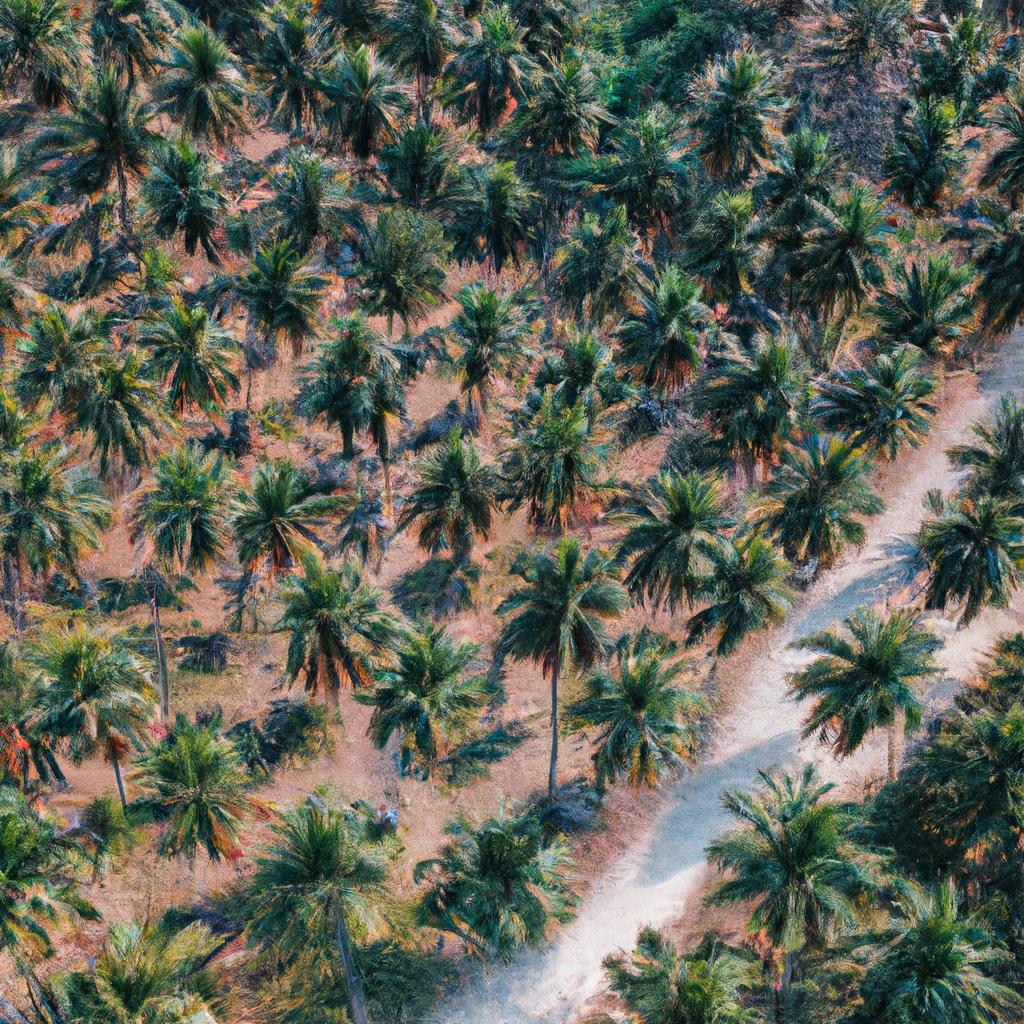coconut_tree: (678, 759, 889, 937), (761, 596, 964, 750), (238, 794, 378, 947), (572, 639, 697, 777), (505, 537, 621, 683), (348, 629, 483, 750), (292, 317, 409, 447), (140, 291, 256, 421), (493, 391, 608, 515), (406, 422, 503, 549), (234, 456, 343, 569), (555, 185, 640, 326), (612, 278, 716, 389), (262, 572, 366, 681), (139, 143, 237, 254), (450, 148, 543, 264), (42, 80, 147, 181), (366, 105, 462, 208)
